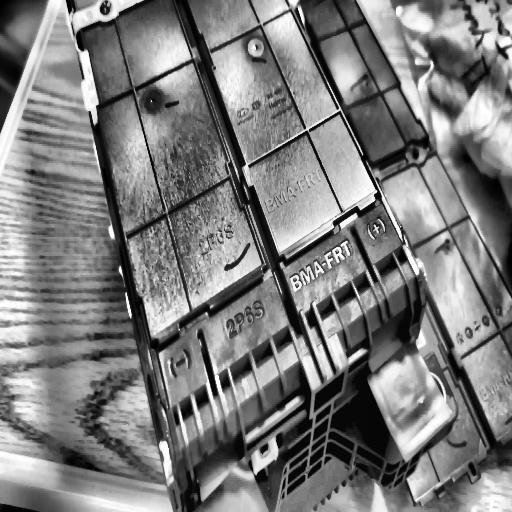battery_module: (69, 0, 512, 512)
